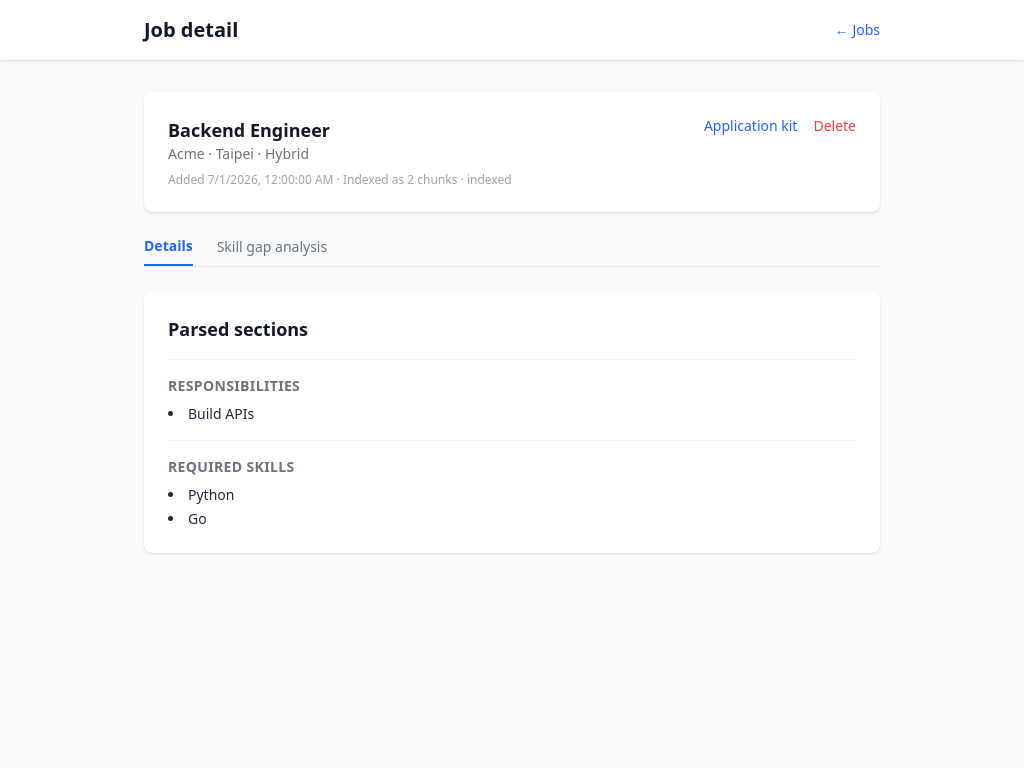
Test: a report with generation_error shows the warning banner and evidence only
The image size is (1024, 768).
Expected: the heading "Backend Engineer" is shown, [168,116,330,144]
Click the tab "Skill gap analysis".
click(272, 251)  # box [217,236,327,266]
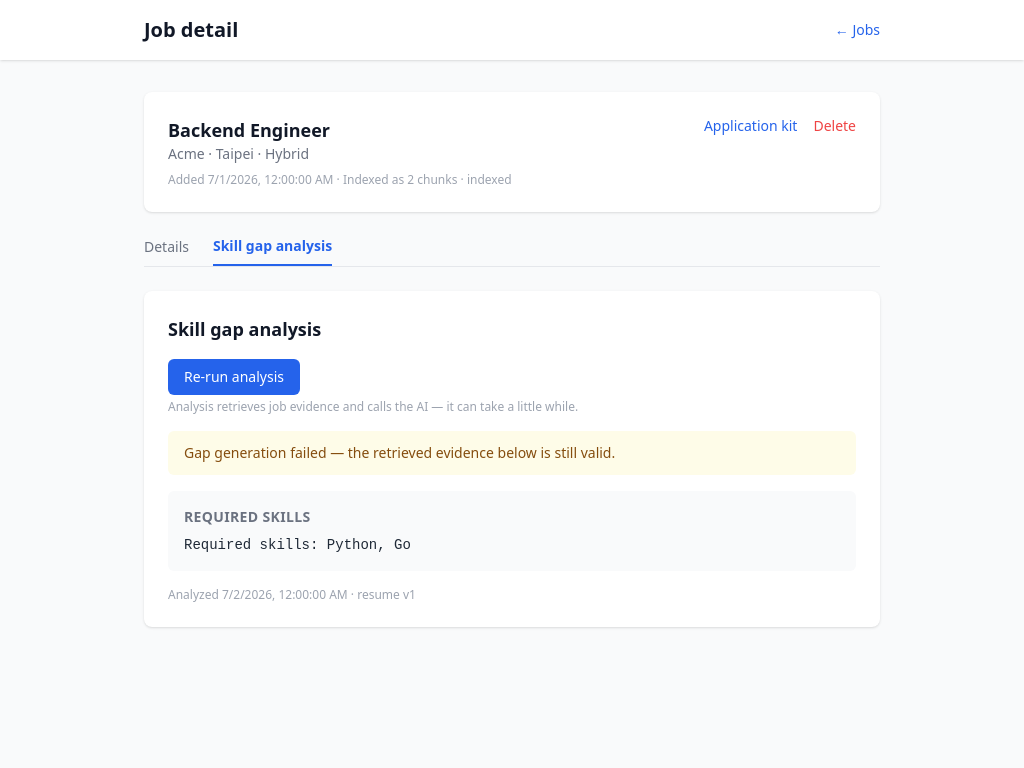
Result: the text "Gap generation failed — the retrieved evidence below is still valid." is shown at [168,431,856,475]
Result: the text "Required skills: Python, Go" is shown at [184,537,411,553]
